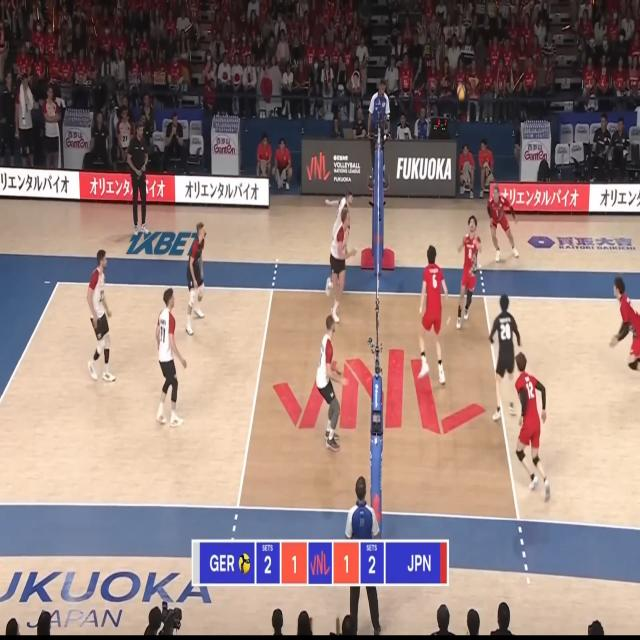ball: (458, 82, 466, 100)
